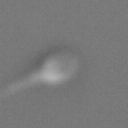normal: (1, 70, 40, 107)
